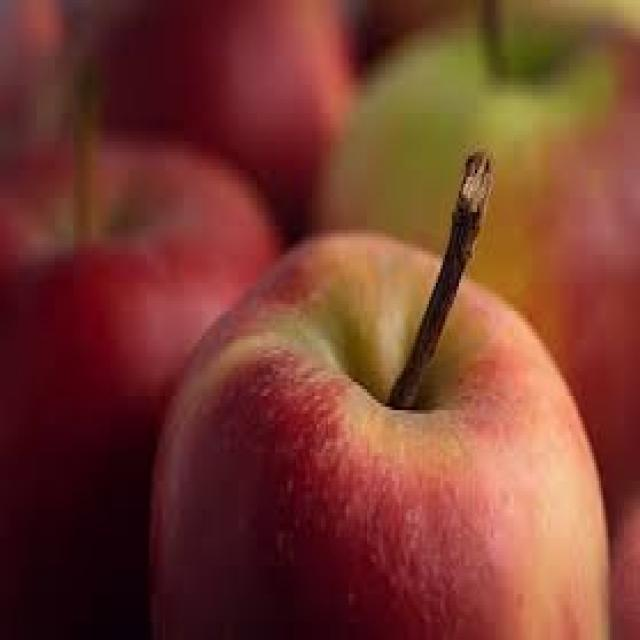Apple: (148, 224, 598, 632), (318, 3, 640, 523), (6, 125, 290, 637)
